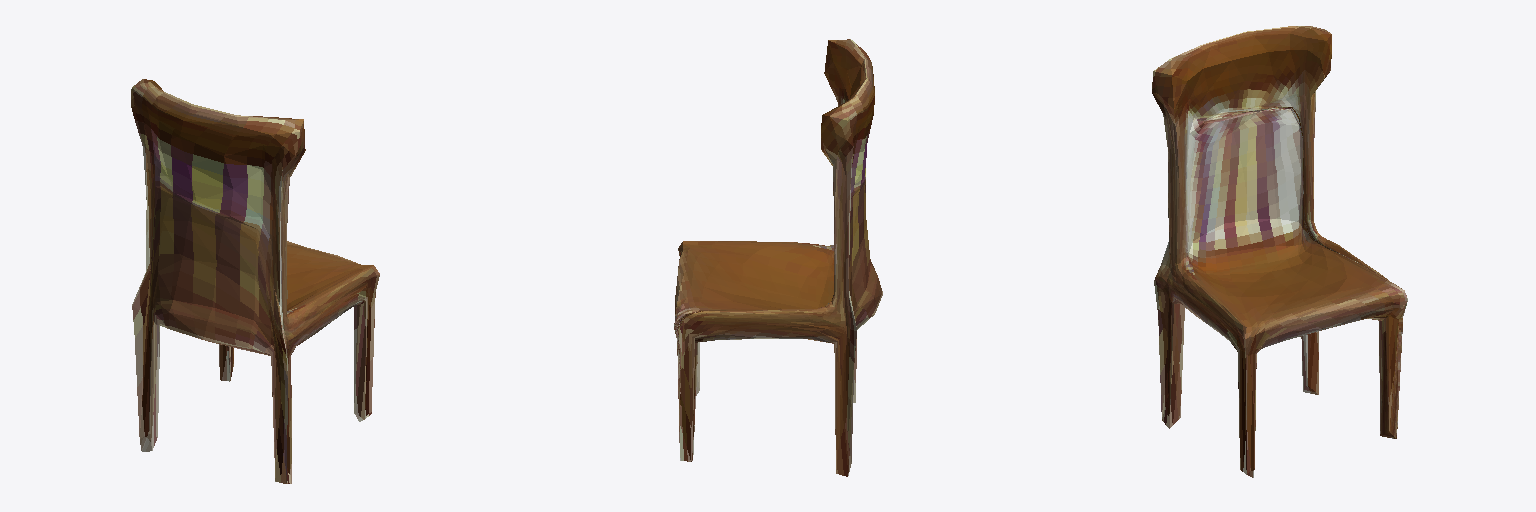
3 renders of one model, left to right at view 1: azimuth 30°, elevation 25°; view 2: azimuth 150°, elevation 25°; view 3: azimuth 270°, elevation 25°, orthographic.
Bounding box in the file's own units: 0.6026 × 1 × 0.6282.
Materials: 1 (1 with a texture image).